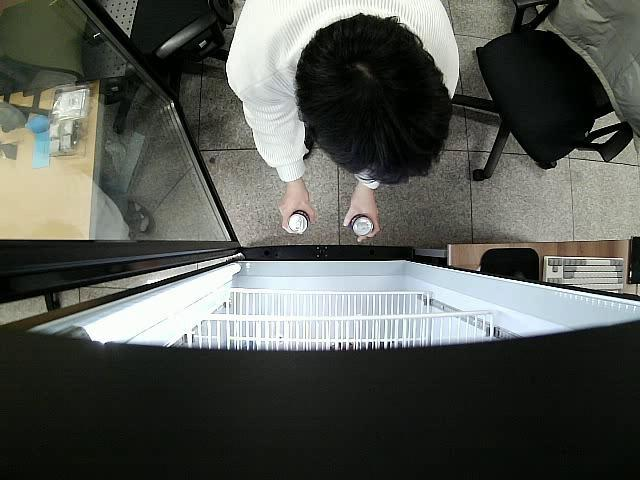16_hot6: (289, 210, 310, 234), (352, 214, 374, 236)
